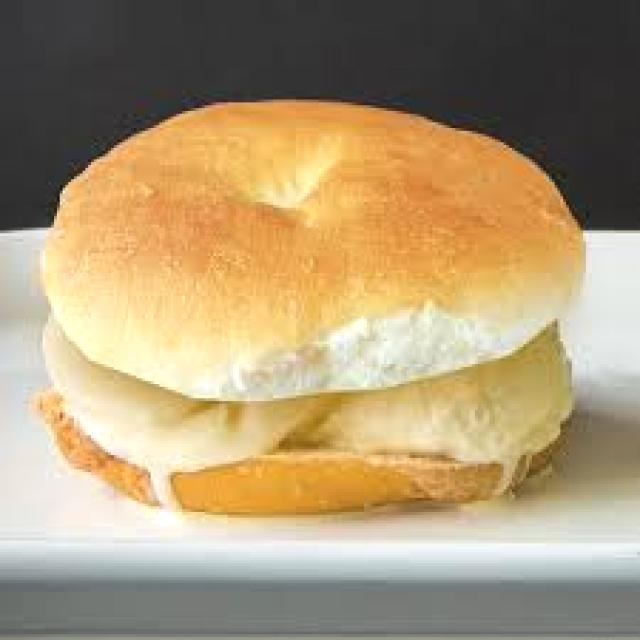organic: (57, 83, 594, 566)
